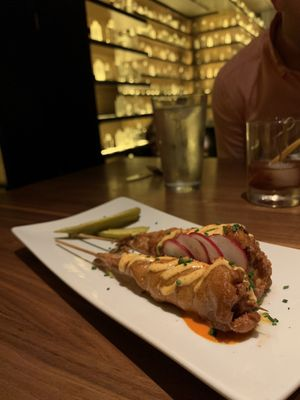pizza: (243, 115, 300, 208)
